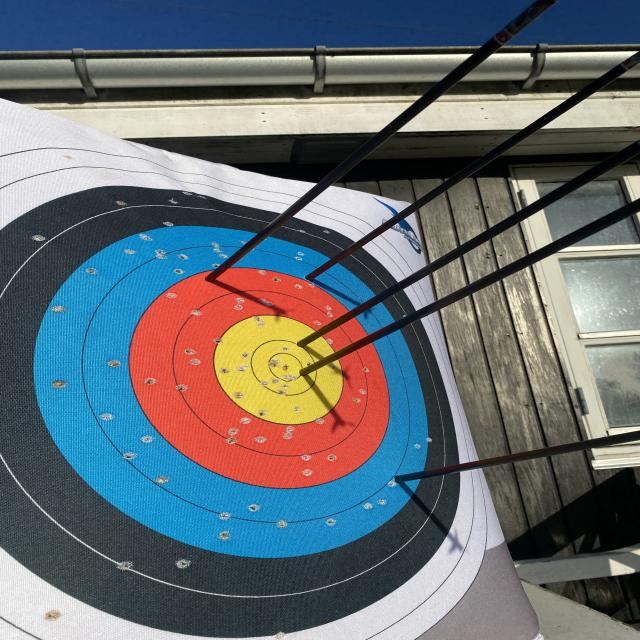Arrow_Blue: (393, 464, 422, 498), (298, 263, 323, 293)
Arrow_Red: (195, 263, 234, 297)
Arrow_Yellow: (294, 359, 329, 388), (295, 325, 325, 351)
